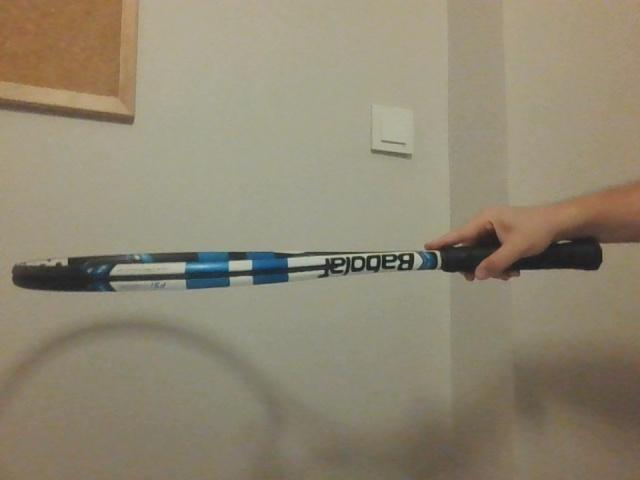Tennis-Racket: (10, 242, 606, 289)
